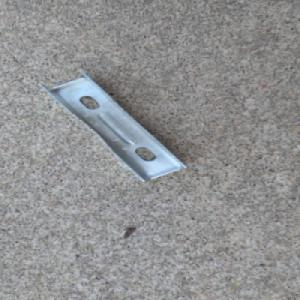ClampPart: (38, 69, 189, 182)
